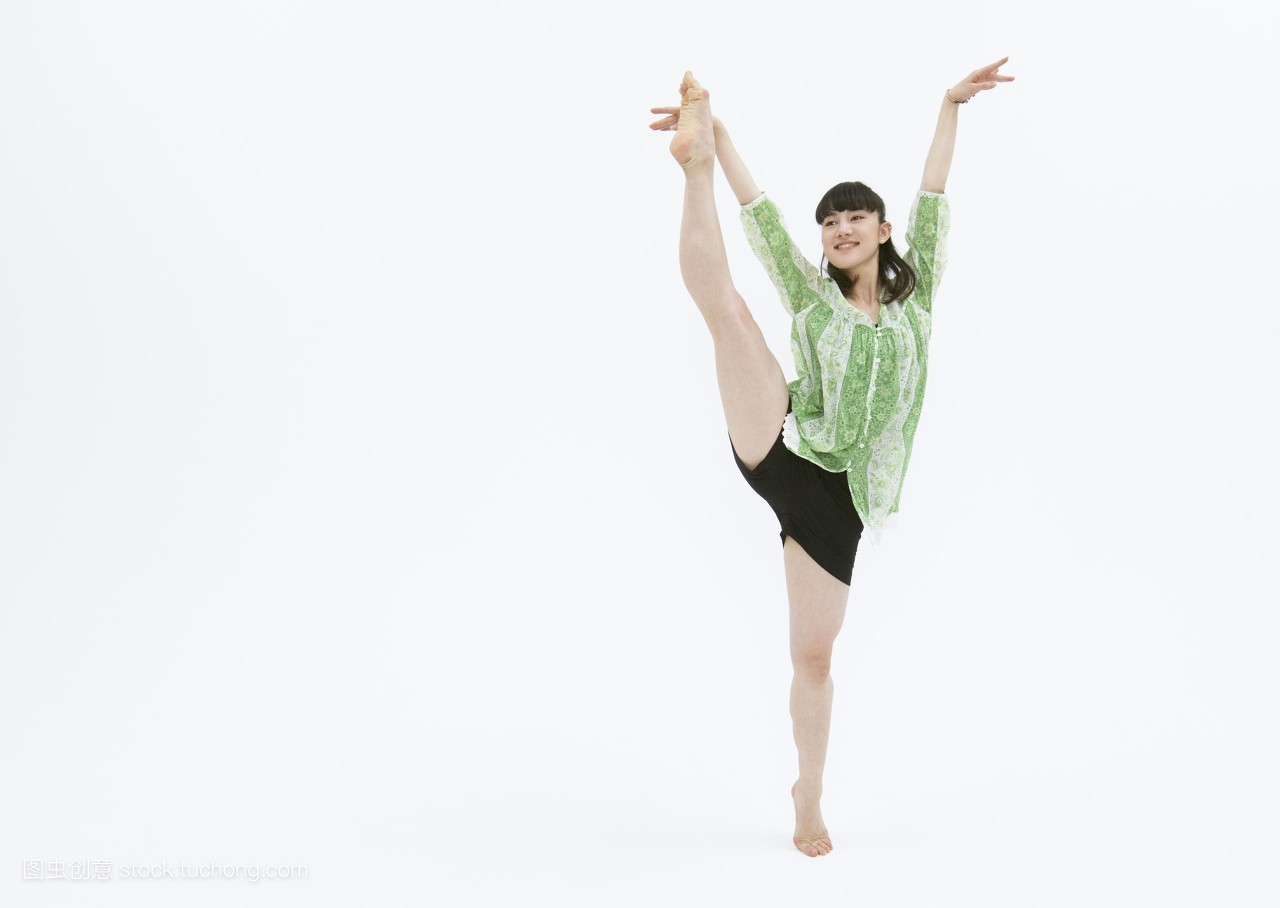handsup: (652, 53, 1070, 868)
